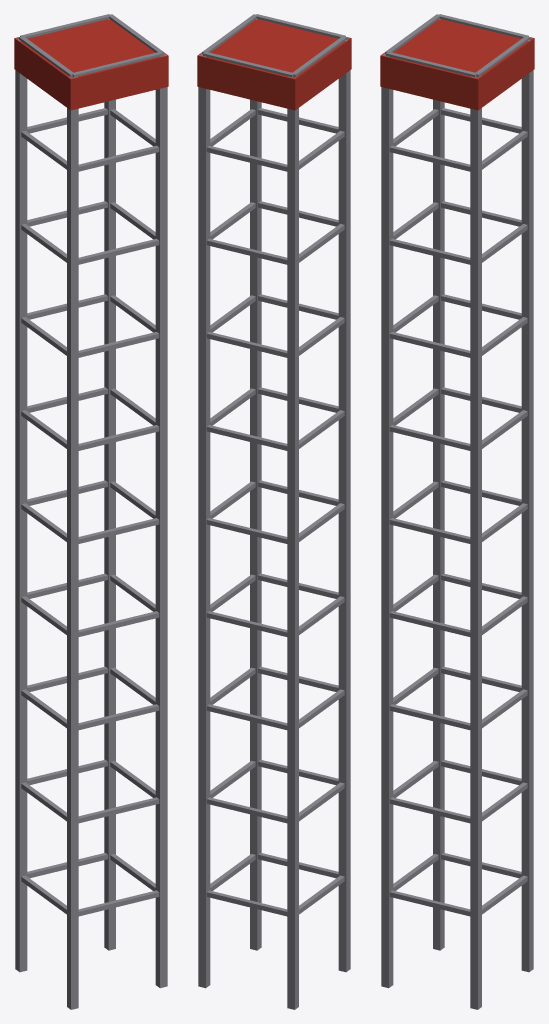
The model's file is gantry.glb.
3 renders of one model, left to right at view 1: azimuth 30°, elevation 25°; view 2: azimuth 150°, elevation 25°; view 3: azimuth 330°, elevation 25°, orthographic.
Parts seen in each view (by area): view 1: gantry; view 2: gantry; view 3: gantry.
Part boxes in pixels (box(x1,y1,x2,y2)): gantry: box(14, 14, 168, 1009); gantry: box(197, 14, 351, 1009); gantry: box(380, 14, 534, 1009).
Bounding box in the file's own units: 6.6 × 60.15 × 6.6.
